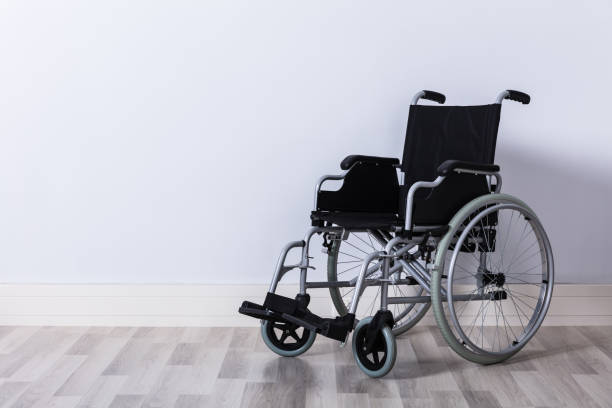wheel_chair: (229, 86, 574, 381)
